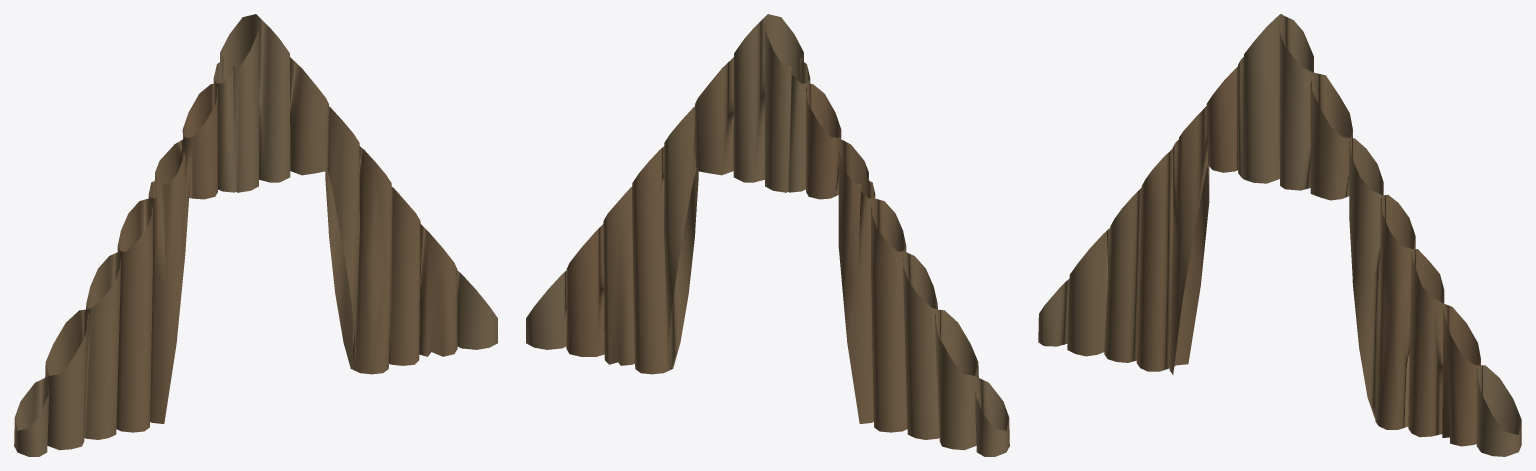
Rendered from rpgpp_ag_roof_end_01_6x5_wall_door_02b.fbx.
3 renders of one model, left to right at view 1: azimuth 30°, elevation 25°; view 2: azimuth 150°, elevation 25°; view 3: azimuth 330°, elevation 25°, orthographic.
Parts seen in each view (by area): view 1: rpgpp_ag_roof_end_01_6x5_wall_door_02b; view 2: rpgpp_ag_roof_end_01_6x5_wall_door_02b; view 3: rpgpp_ag_roof_end_01_6x5_wall_door_02b.
Part boxes in pixels (box(x1,y1,x2,y2)): rpgpp_ag_roof_end_01_6x5_wall_door_02b: box(14, 14, 497, 456); rpgpp_ag_roof_end_01_6x5_wall_door_02b: box(526, 14, 1009, 456); rpgpp_ag_roof_end_01_6x5_wall_door_02b: box(1038, 14, 1521, 456).
Bounding box in the file's own units: 6 × 4.57 × 0.4626.
